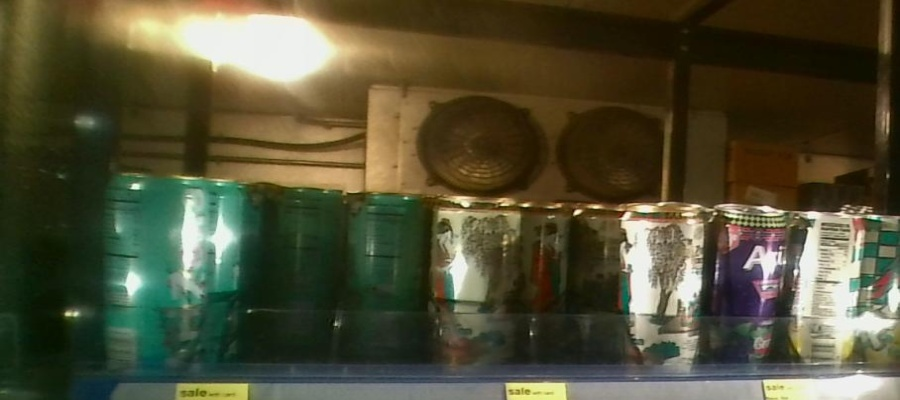bottle: (96, 171, 212, 375), (621, 198, 703, 364), (433, 193, 521, 334), (716, 198, 782, 365), (789, 205, 854, 362), (347, 181, 418, 311), (268, 176, 334, 304), (862, 206, 900, 364), (523, 195, 572, 307)
